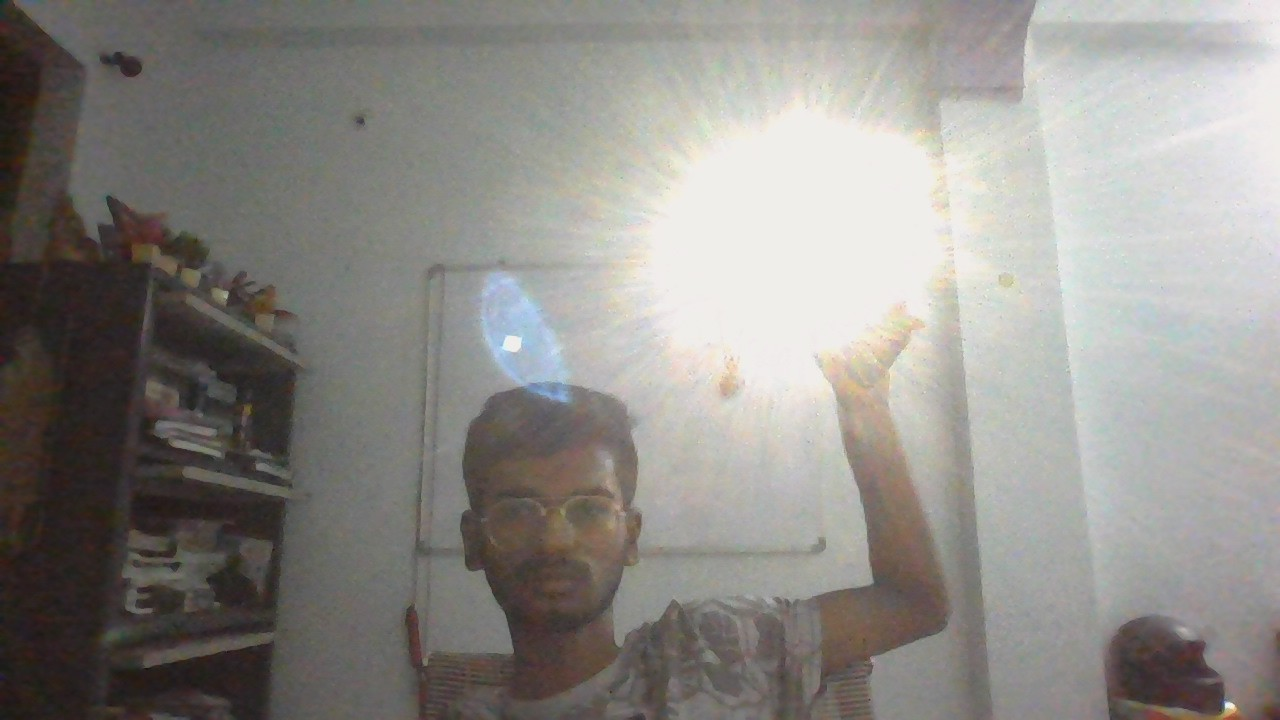Glare: (628, 108, 962, 362)
